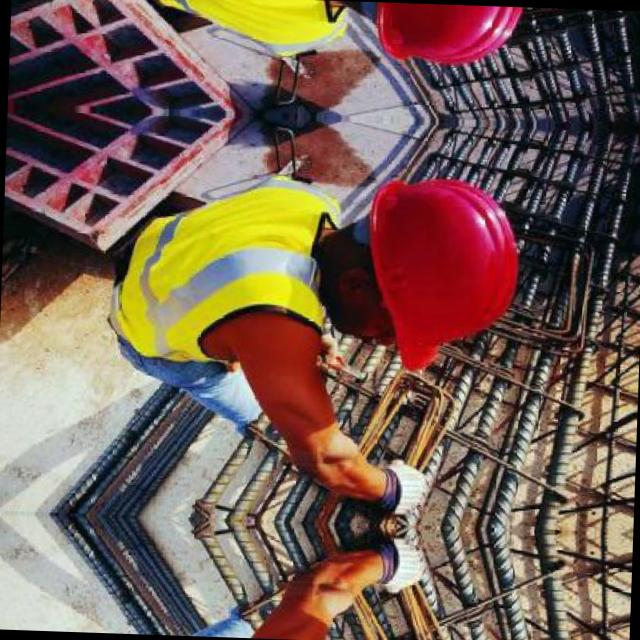helmet: (318, 164, 532, 372), (328, 0, 538, 76)
